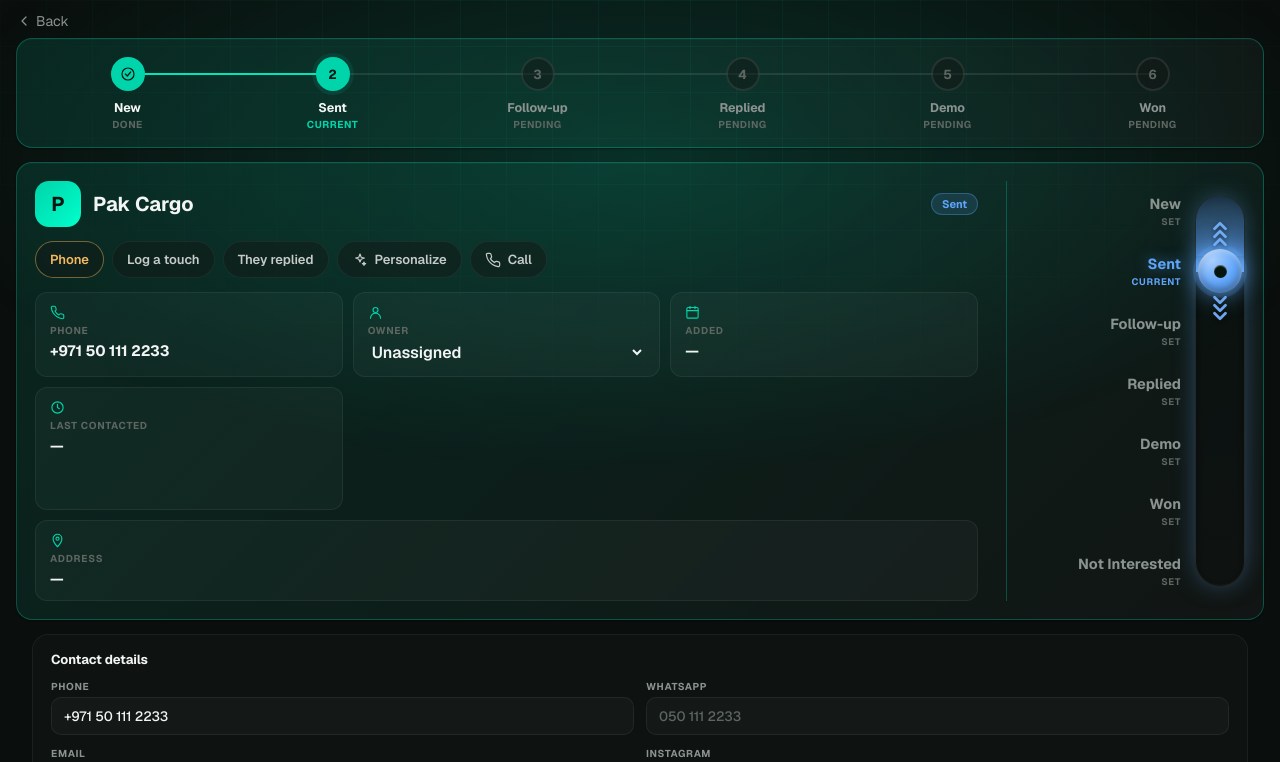
LeadDetail outreach button › does not offer a dead WhatsApp send or log a fake touch when personalizing a landline lead
Click the button "Personalize": (399, 260) [336, 241, 462, 278]
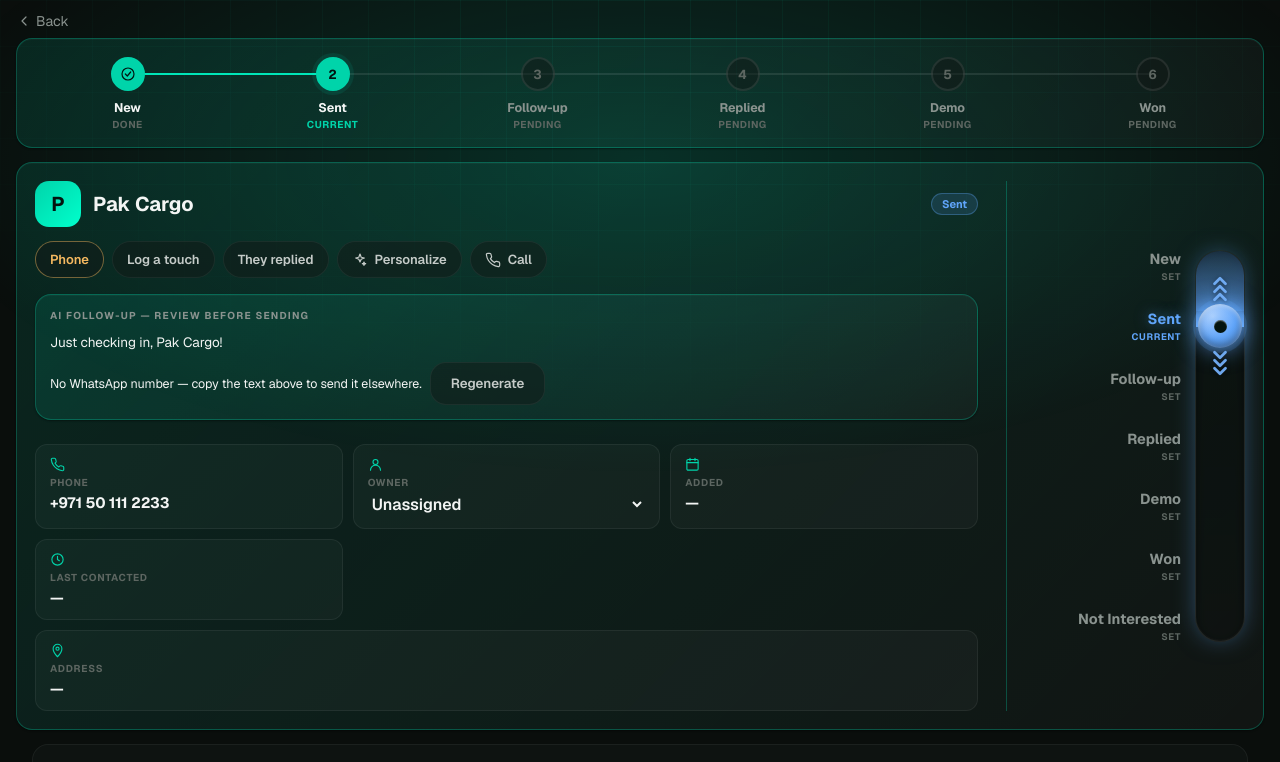
Expected: the text "Just checking in, Pak Cargo!" is shown, [50, 333, 222, 351]
